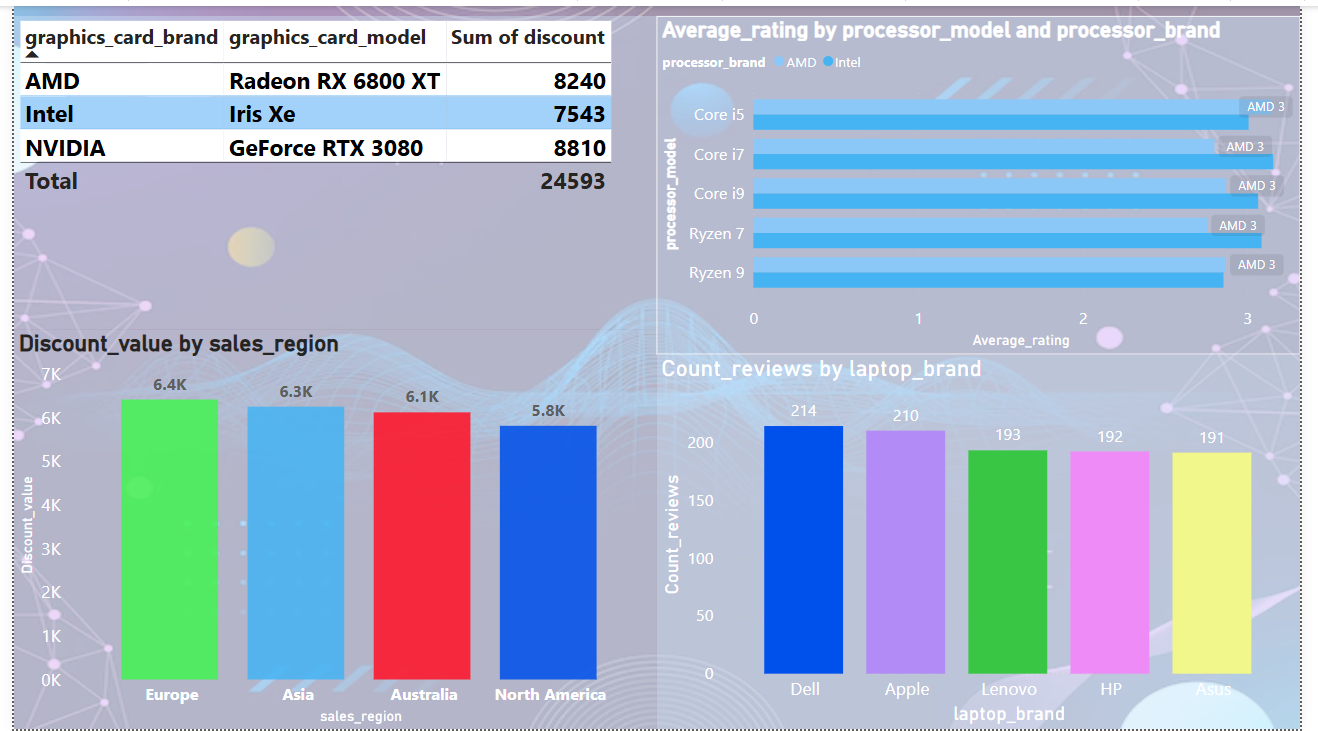

This screenshot's page, from the dashboard's own definition file:
{"tool":"powerbi","page":{"name":"Page 3","canvas":[1280,720],"ordinal":2},"visuals":[{"type":"tableEx","fields":{"Values":["Laptop_Price.graphics_card_brand","Laptop_Price.graphics_card_model","Sum(Laptop_Price.discount)"]},"box":[0,10,639.4,312.2],"z":0},{"type":"clusteredColumnChart","fields":{"Y":["Laptop_Price.Discount_value"],"Category":["Laptop_Price.sales_region"]},"box":[0,322.2,639.4,398.1],"z":1000},{"type":"clusteredBarChart","fields":{"Category":["Laptop_Price.processor_model"],"Y":["Laptop_Price.Average_rating"],"Series":["Laptop_Price.processor_brand"]},"box":[639.4,10,640.6,337.1],"z":2000},{"type":"clusteredColumnChart","fields":{"Y":["Laptop_Price.Count_reviews"],"Category":["Laptop_Price.laptop_brand"]},"box":[639.4,347.1,640.6,373.2],"z":3000}]}

Visuals, with their boxes in screenshot pixels (x1, y1, x2, y2), scaled from the page's 1280x720 canvas onto the 1318x731 screenshot:
tableEx - Laptop_Price.graphics_card_brand x Laptop_Price.graphics_card_model: <region>0, 10, 658, 327</region>
clusteredColumnChart - Laptop_Price.Discount_value x Laptop_Price.sales_region: <region>0, 327, 658, 730</region>
clusteredBarChart - Laptop_Price.processor_model x Laptop_Price.Average_rating: <region>658, 10, 1317, 352</region>
clusteredColumnChart - Laptop_Price.Count_reviews x Laptop_Price.laptop_brand: <region>658, 352, 1317, 730</region>
